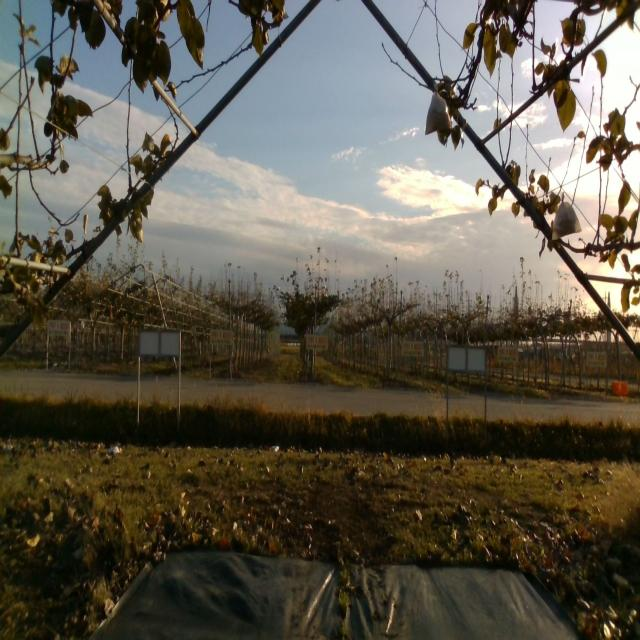pearbags: (549, 191, 582, 243), (425, 83, 452, 137)
